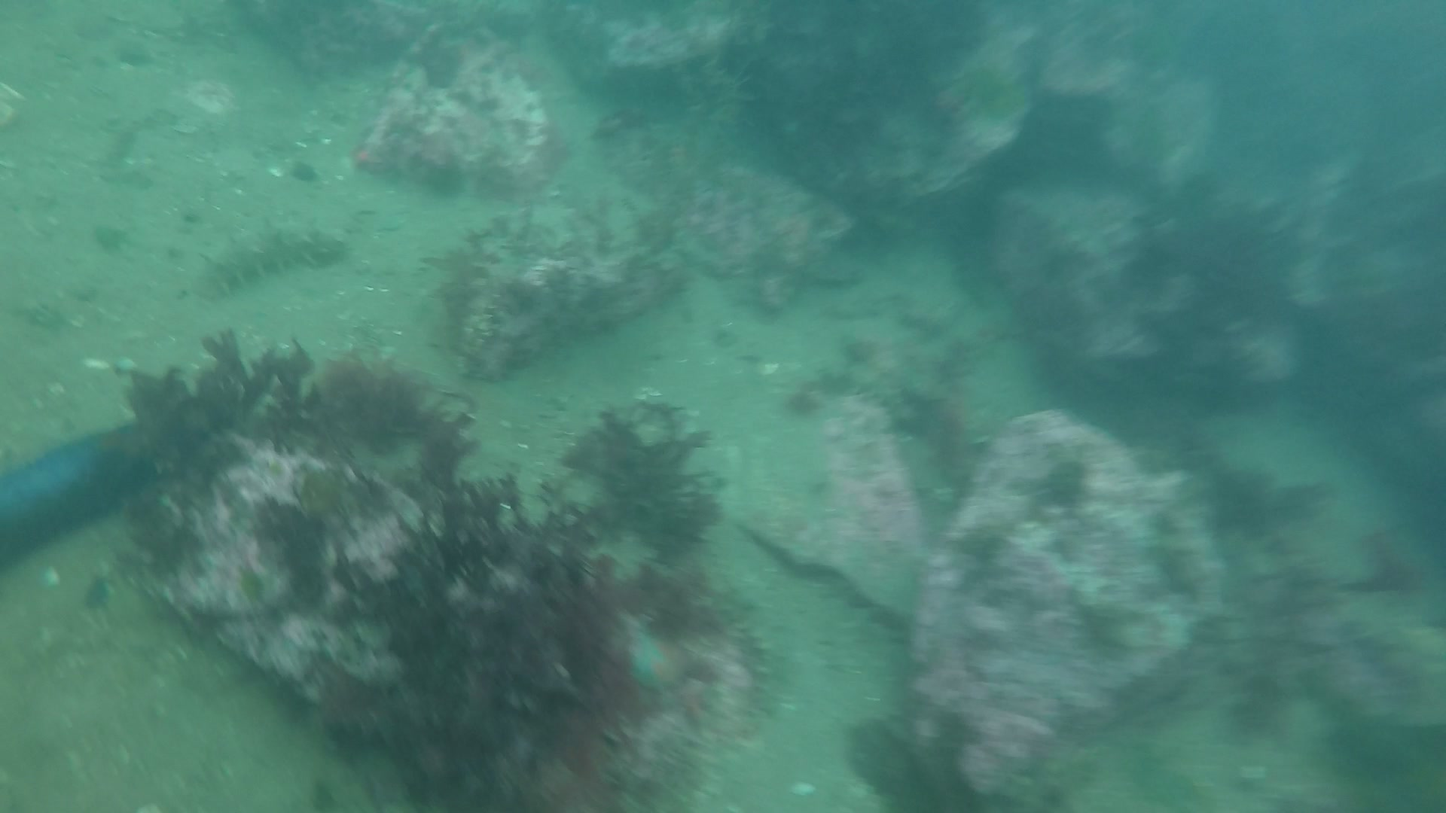echinus: (191, 220, 352, 297)
holothurian: (607, 623, 723, 723)
